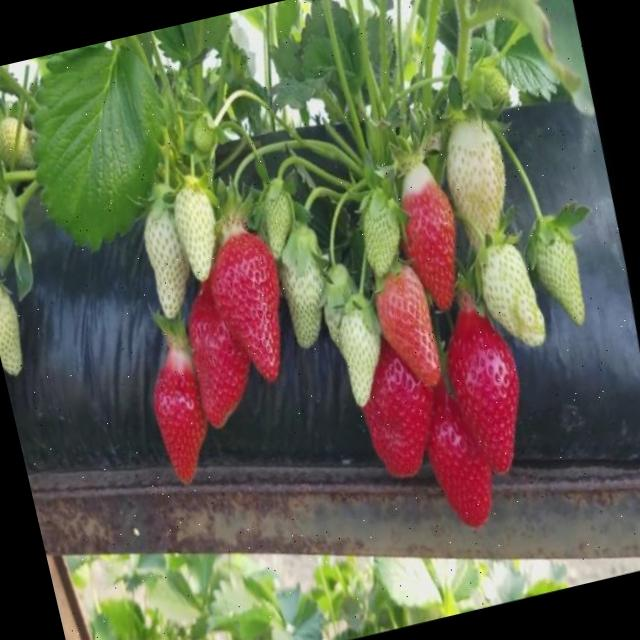ripe: (430, 307, 548, 488), (170, 268, 278, 449), (196, 218, 303, 391), (346, 345, 454, 493), (361, 251, 458, 401), (388, 164, 480, 316), (416, 401, 513, 541), (140, 335, 224, 492)
